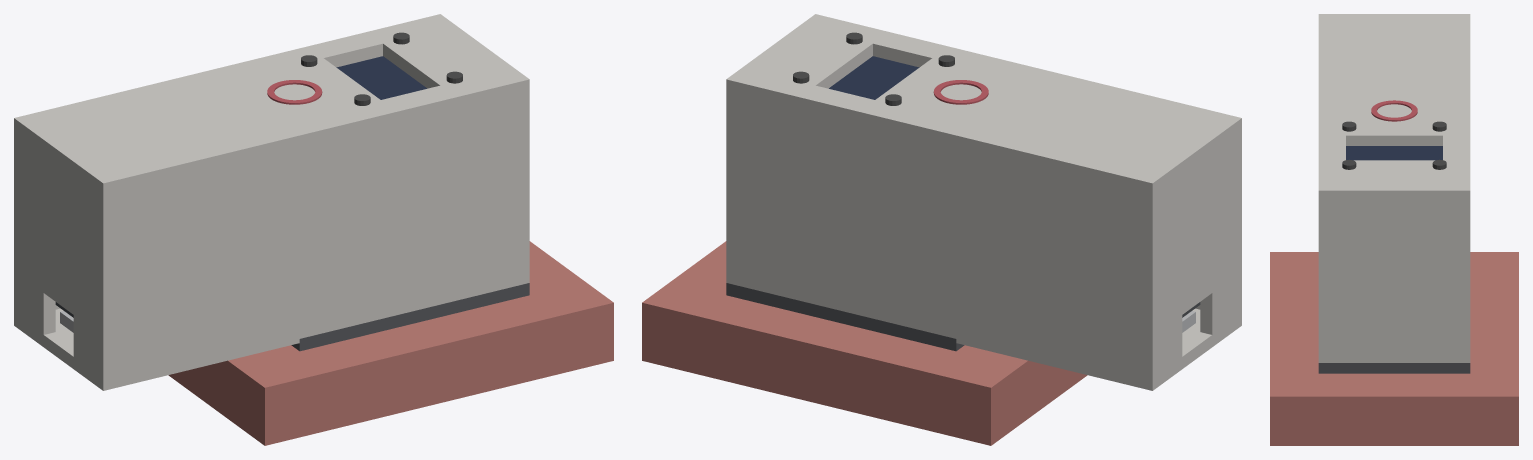
The model's file is genggam.glb.
3 renders of one model, left to right at view 1: azimuth 30°, elevation 25°; view 2: azimuth 150°, elevation 25°; view 3: azimuth 270°, elevation 25°, orthographic. The views are drawn at different scales.
Parts seen in each view (by area): view 1: dinding_kiri, tutup_atas, daging, dinding_belakang, lantai_belakang, pelat_muka, oled_kaca, dinding_kanan, oled_baut, tanda_tekan; view 2: dinding_kanan, tutup_atas, daging, dinding_belakang, lantai_belakang, pelat_muka, oled_kaca, dinding_kiri, oled_baut, tanda_tekan; view 3: daging, tutup_atas, dinding_depan, dinding_kiri, dinding_kanan, pelat_muka, oled_kaca, oled_baut, tanda_tekan.
Part boxes in pixels (x1,y1,x2,y2): dinding_kiri: (96,92,529,378); tutup_atas: (14,14,529,195); daging: (168,241,613,445); dinding_belakang: (21,136,96,372); lantai_belakang: (14,308,299,390); pelat_muka: (291,283,529,351); oled_kaca: (336,56,426,99); dinding_kanan: (14,131,60,317); oled_baut: (301,32,462,105); tanda_tekan: (267,80,322,104); dinding_kanan: (726,92,1159,378); tutup_atas: (726,14,1241,195); daging: (642,241,1087,445); dinding_belakang: (1159,136,1234,372); lantai_belakang: (956,308,1241,390); pelat_muka: (726,283,964,351); oled_kaca: (829,56,919,99); dinding_kiri: (1195,131,1241,317); oled_baut: (793,32,954,105); tanda_tekan: (933,80,988,104); daging: (1270,252,1518,445); tutup_atas: (1318,14,1470,200); dinding_depan: (1330,201,1458,362); dinding_kiri: (1318,201,1330,362); dinding_kanan: (1458,201,1470,362); pelat_muka: (1318,363,1470,373); oled_kaca: (1346,146,1442,160); oled_baut: (1342,121,1446,169); tanda_tekan: (1371,100,1417,121).
Bounding box in the file's own units: 0.1215 × 0.0672 × 0.064.
